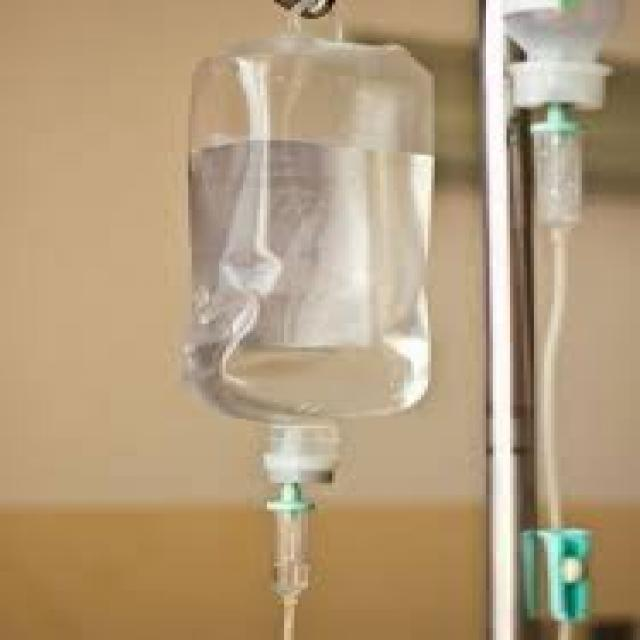iv_fluids: (181, 50, 450, 640)
